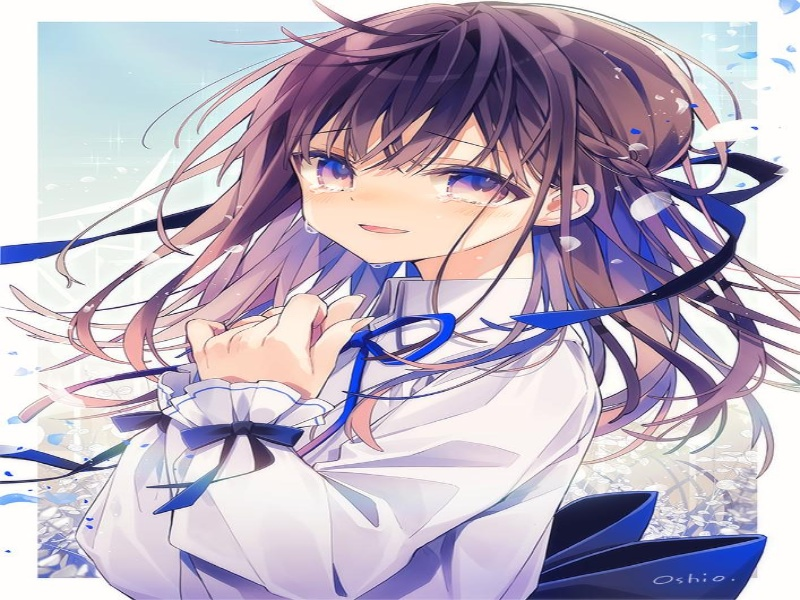person: (247, 15, 644, 291)
